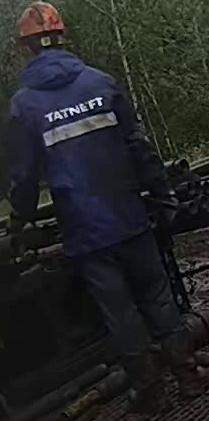helmet: (16, 0, 65, 43)
vest: (9, 53, 156, 257)
